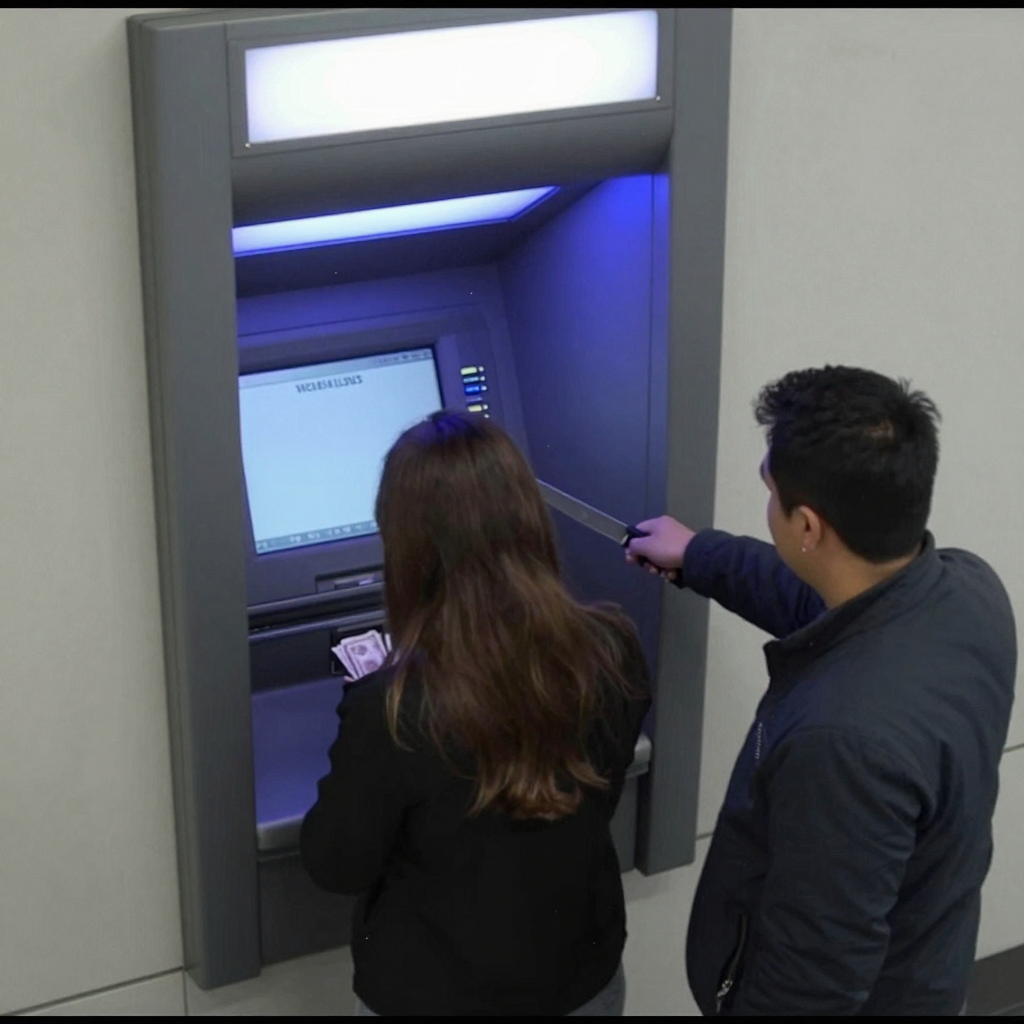Assault: (534, 475, 686, 575)
Robbery: (619, 363, 1019, 1018), (298, 410, 654, 1017)
